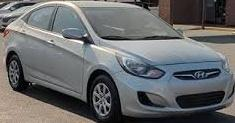Cars: (4, 1, 233, 122)
